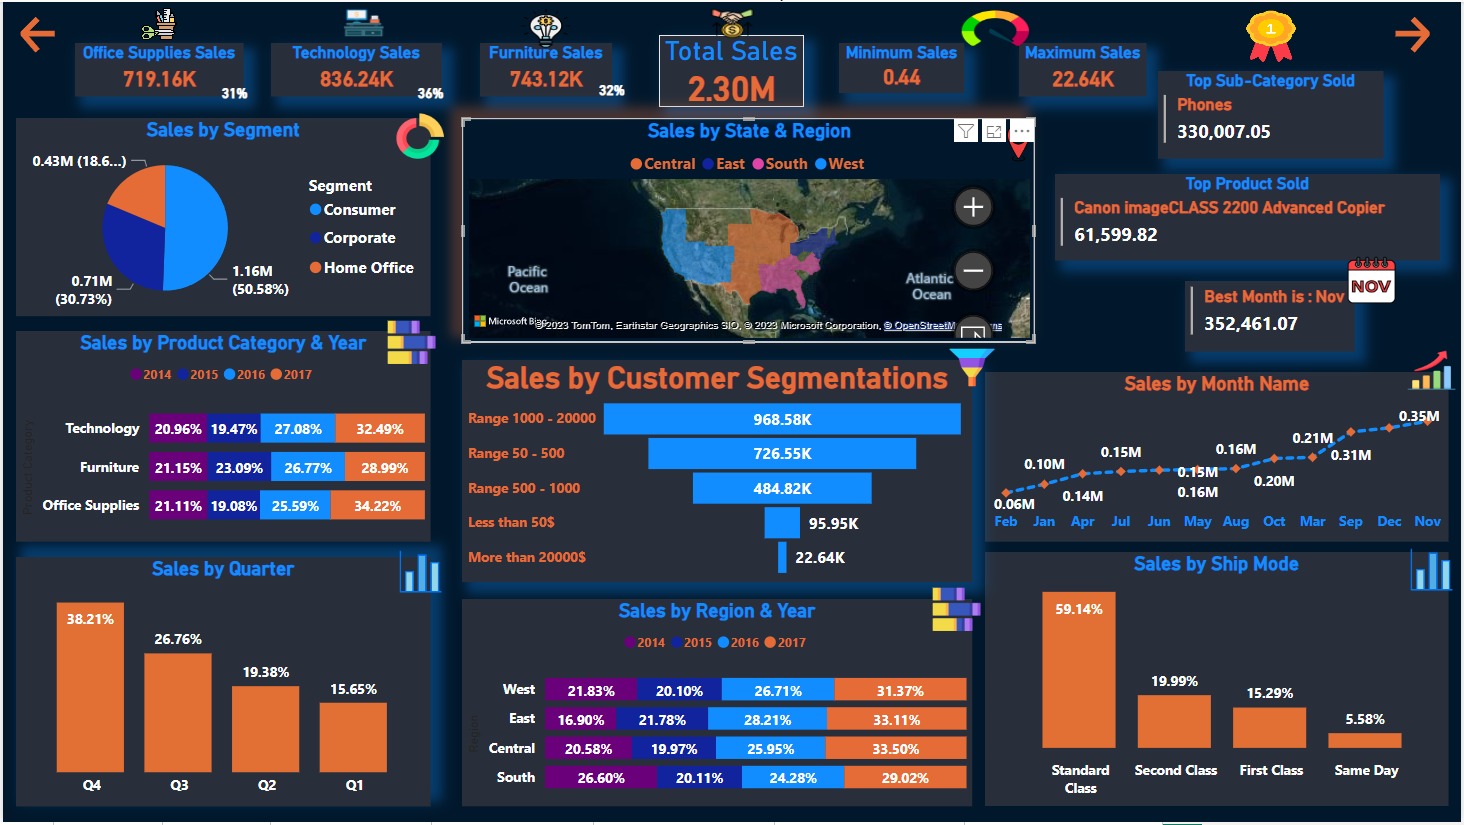

What the dashboard file says about the page in this screenshot:
{"tool":"powerbi","page":{"name":"Sales Report","canvas":[1280,720],"ordinal":1},"visuals":[{"type":"columnChart","title":"Sales by Ship Mode","fields":{"Category":["Orders.Ship Mode"],"Y":["All Measures.Total Sales"]},"box":[862,483,407,223],"z":0},{"type":"lineChart","title":"Sales by Month Name","fields":{"Y":["All Measures.Total Sales"],"Category":["Calendar.Month Name"]},"box":[862,325,407,149],"z":1000},{"type":"pieChart","title":"Sales by Segment","fields":{"Category":["Dim Customers.Segment"],"Y":["Sum(Orders.Sales)"]},"box":[11,102,364,174],"z":2000},{"type":"multiRowCard","fields":{"Values":["All Measures.Best Month is","All Measures.Total Sales"]},"box":[1038,245,149,62],"z":3000},{"type":"funnel","title":"Sales by Customer Segmentations","fields":{"Category":["Orders.Customer Segmentations"],"Y":["All Measures.Total Sales"]},"box":[403,314,448,195],"z":4000},{"type":"columnChart","title":"Sales by Quarter","fields":{"Category":["Calendar.Quarter"],"Y":["Sum(Orders.Sales)"]},"box":[11,487,364,219],"z":5000},{"type":"filledMap","title":"Sales by State & Region","fields":{"Category":["Dim Customers.State"],"Series":["Dim Customers.Region"]},"box":[403,102,503,197],"z":6000},{"type":"actionButton","box":[1212,9,50,40],"z":7000},{"type":"actionButton","box":[11,9,40,40],"z":8000},{"type":"card","title":"Maximum Sales","fields":{"Values":["All Measures.Max Sales"]},"box":[892,36,112,47],"z":9000},{"type":"card","title":"Minimum Sales","fields":{"Values":["All Measures.Min Sales"]},"box":[734,36,110,44],"z":10000},{"type":"multiRowCard","title":"Top Sub-Category Sold","fields":{"Values":["All Measures.Total Sales","Dim Products.Sub-Category"]},"box":[1014,61,198,77],"z":11000},{"type":"multiRowCard","title":"Top Product Sold","fields":{"Values":["All Measures.Total Sales","Dim Products.Product Name"]},"box":[924,151,338,76],"z":12000},{"type":"hundredPercentStackedBarChart","title":"Sales by Product Category & Year","fields":{"Category":["Orders.Product Category"],"Y":["Sum(Orders.Sales)"],"Series":["Orders.Year"]},"box":[11,289,364,185],"z":13000},{"type":"hundredPercentStackedBarChart","title":"Sales by Region & Year","fields":{"Category":["Dim Customers.Region"],"Series":["Orders.Year"],"Y":["Sum(Orders.Sales)"]},"box":[403,524,448,182],"z":14000},{"type":"card","title":"Technology Sales","fields":{"Values":["All Measures.Total Technology By Sales"]},"box":[235,36,150,47],"z":15000},{"type":"card","fields":{"Values":["All Measures.Technology % By Sales"]},"box":[357,67,36,25],"z":16000},{"type":"card","title":"Office Supplies Sales","fields":{"Values":["All Measures.Total Office Supplies By Sales"]},"box":[63,36,148,47],"z":17000},{"type":"card","fields":{"Values":["All Measures.Office Supplies % By Sales"]},"box":[185,67,36,25],"z":18000},{"type":"card","title":"Furniture Sales","fields":{"Values":["All Measures.Total Furniture By Sales"]},"box":[419,36,116,47],"z":19000},{"type":"card","fields":{"Values":["All Measures.Furniture % By Sales"]},"box":[518,64,33,25],"z":20000},{"type":"card","title":"Total Sales","fields":{"Values":["All Measures.Total Sales"]},"box":[576,29,127,63],"z":21000},{"type":"image","box":[115.9,0,42.1,38.6],"z":22000},{"type":"image","box":[445,0,63,46],"z":23000},{"type":"image","box":[293,1,47,35],"z":24000},{"type":"image","box":[616,1,48,36],"z":25000},{"type":"image","box":[837,0,69,46],"z":26000},{"type":"image","box":[1077.4,2.6,72,55.3],"z":27000},{"type":"image","box":[870,100,43,46],"z":28000},{"type":"image","box":[340,92,53,51],"z":29000},{"type":"image","box":[341,474,52,52],"z":30000},{"type":"image","box":[1228,472,52,52],"z":31000},{"type":"image","box":[1228,299,52,48],"z":32000},{"type":"image","box":[333,275,52,48],"z":33000},{"type":"image","box":[811,509,52,48],"z":34000},{"type":"image","box":[825,299,51,43],"z":35000},{"type":"image","box":[1176,219,52,51],"z":36000}]}

Visuals, with their boxes in screenshot pixels (x1, y1, x2, y2), scaled from the page's 1280x720 canvas onto the 1464x825 screenshot:
"Sales by Ship Mode" columnChart: box(986, 553, 1451, 809)
"Sales by Month Name" lineChart: box(986, 372, 1451, 543)
"Sales by Segment" pieChart: box(13, 117, 429, 316)
multiRowCard - All Measures.Best Month is x All Measures.Total Sales: box(1187, 281, 1358, 352)
"Sales by Customer Segmentations" funnel: box(461, 360, 973, 583)
"Sales by Quarter" columnChart: box(13, 558, 429, 809)
"Sales by State & Region" filledMap: box(461, 117, 1036, 343)
actionButton: box(1386, 10, 1443, 56)
actionButton: box(13, 10, 58, 56)
"Maximum Sales" card: box(1020, 41, 1148, 95)
"Minimum Sales" card: box(840, 41, 965, 92)
"Top Sub-Category Sold" multiRowCard: box(1160, 70, 1386, 158)
"Top Product Sold" multiRowCard: box(1057, 173, 1443, 260)
"Sales by Product Category & Year" hundredPercentStackedBarChart: box(13, 331, 429, 543)
"Sales by Region & Year" hundredPercentStackedBarChart: box(461, 600, 973, 809)
"Technology Sales" card: box(269, 41, 440, 95)
card - All Measures.Technology % By Sales: box(408, 77, 449, 105)
"Office Supplies Sales" card: box(72, 41, 241, 95)
card - All Measures.Office Supplies % By Sales: box(212, 77, 253, 105)
"Furniture Sales" card: box(479, 41, 612, 95)
card - All Measures.Furniture % By Sales: box(592, 73, 630, 102)
"Total Sales" card: box(659, 33, 804, 105)
image: box(133, 0, 181, 44)
image: box(509, 0, 581, 53)
image: box(335, 1, 389, 41)
image: box(705, 1, 759, 42)
image: box(957, 0, 1036, 53)
image: box(1232, 3, 1315, 66)
image: box(995, 115, 1044, 167)
image: box(389, 105, 449, 164)
image: box(390, 543, 449, 603)
image: box(1405, 541, 1463, 600)
image: box(1405, 343, 1463, 398)
image: box(381, 315, 440, 370)
image: box(928, 583, 987, 638)
image: box(944, 343, 1002, 392)
image: box(1345, 251, 1405, 309)
